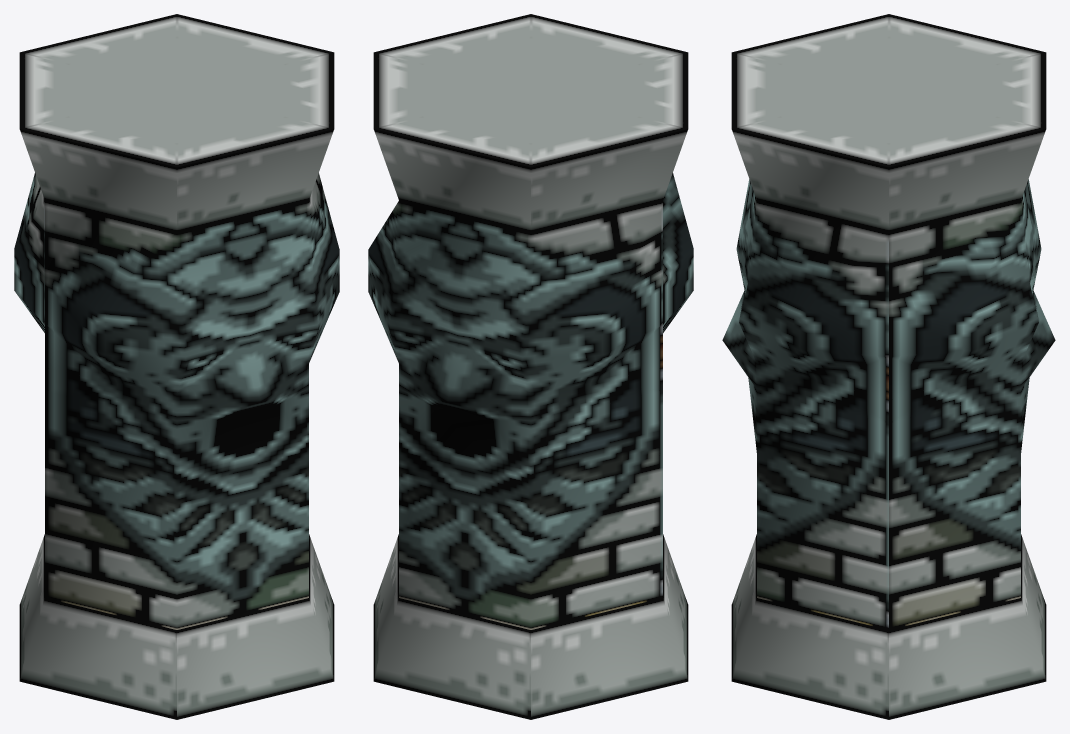
File: deco_cathedral_pillarStatue.FBX
The picture shows the model from 3 angles, left to right: view 1: azimuth 30°, elevation 25°; view 2: azimuth 150°, elevation 25°; view 3: azimuth 270°, elevation 25°; orthographic projection.
Parts seen in each view (by area): view 1: deco_cathedral_pillarStatue; view 2: deco_cathedral_pillarStatue; view 3: deco_cathedral_pillarStatue.
Boxes of the visible parts, x1,y1,x2,y2 form: deco_cathedral_pillarStatue: (14, 14, 339, 719); deco_cathedral_pillarStatue: (368, 14, 693, 719); deco_cathedral_pillarStatue: (722, 14, 1055, 719).
Size of the model in its own units: 2.38 by 4 by 2.19.
1 material, 1 textured.
